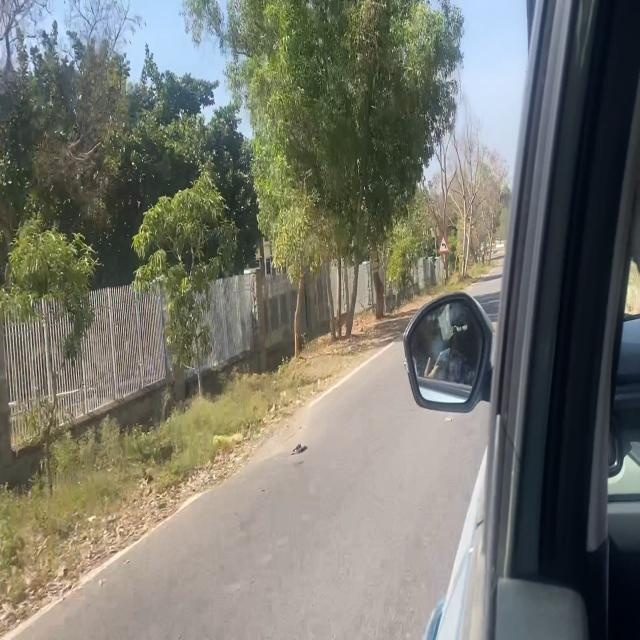bien_nguy_hiem: (438, 230, 450, 256)
